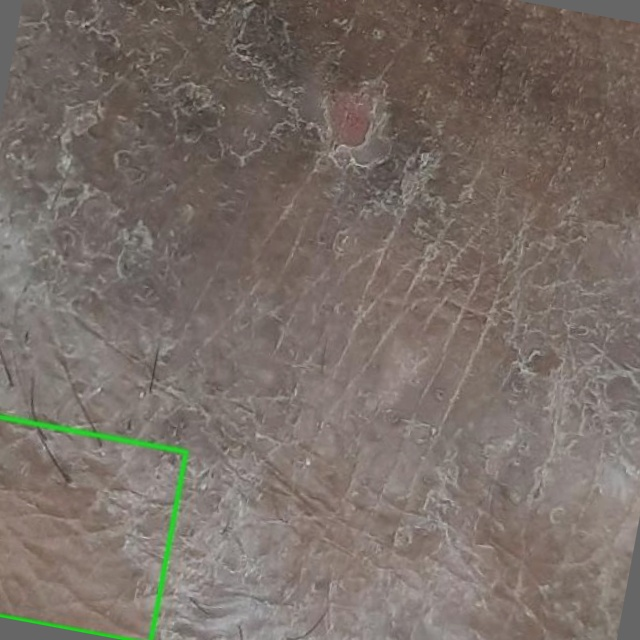Eczema: (0, 417, 186, 639)
